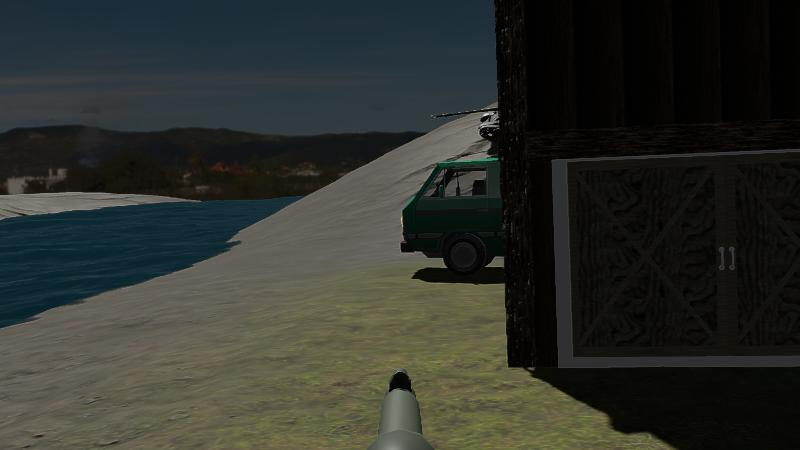House: (491, 1, 799, 355)
